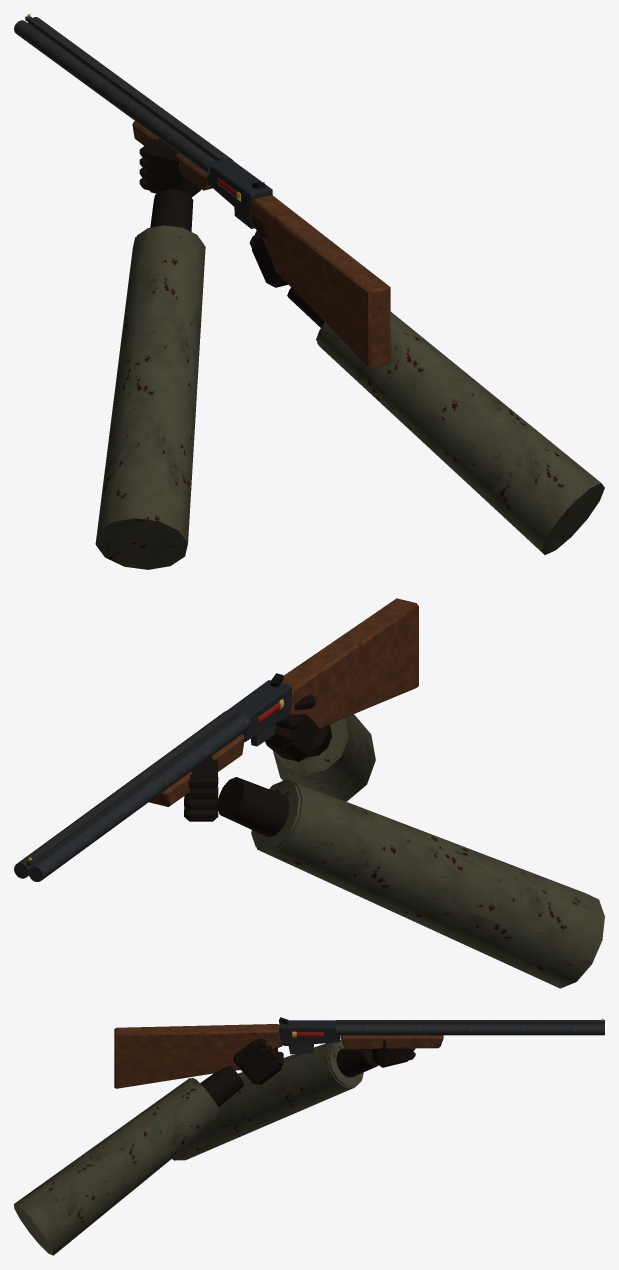
The model's file is olympia.gltf.
3 renders of one model, top to bottom at view 1: azimuth 30°, elevation 25°; view 2: azimuth 150°, elevation 25°; view 3: azimuth 270°, elevation 25°, orthographic. The views are drawn at different scales.
Parts seen in each view (by area): view 1: Body, ArmL; view 2: ArmL, Body; view 3: Body, ArmL.
Boxes of the visible parts, x1,y1,x2,y2 form: Body: [14, 14, 604, 554]; ArmL: [95, 138, 205, 569]; ArmL: [184, 756, 604, 988]; Body: [14, 598, 418, 881]; Body: [14, 1017, 604, 1255]; ArmL: [172, 1035, 415, 1160].
Bounding box in the file's own units: 0.7443 × 0.517 × 1.36.
8 materials, 7 textured.
